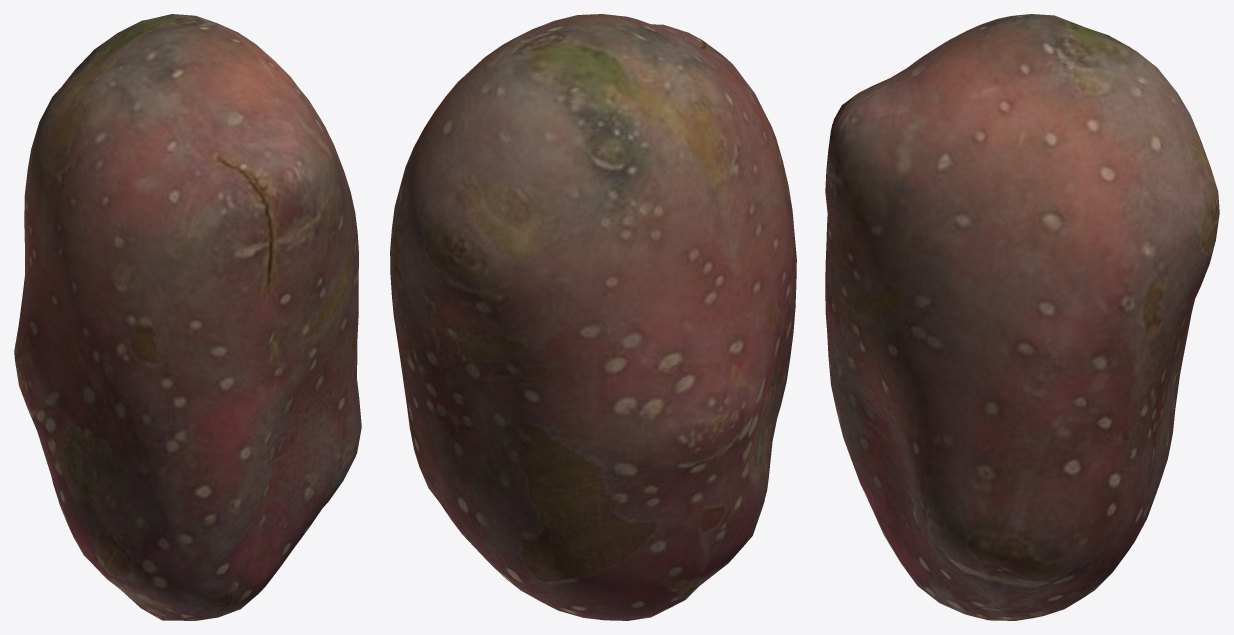
File: sweet_potato_1k.gltf
3 views of the same model, side by side, from view 1: azimuth 30°, elevation 25°; view 2: azimuth 150°, elevation 25°; view 3: azimuth 270°, elevation 25° (orthographic). The views are drawn at different scales.
Visible parts, largest first — view 1: sweet_potato; view 2: sweet_potato; view 3: sweet_potato.
Part boxes in pixels (x1,y1,x2,y2): sweet_potato: (14, 14, 361, 620); sweet_potato: (390, 14, 796, 620); sweet_potato: (825, 14, 1219, 620).
Bounding box in the file's own units: 0.0581 × 0.1005 × 0.061.
1 material, 1 textured.
